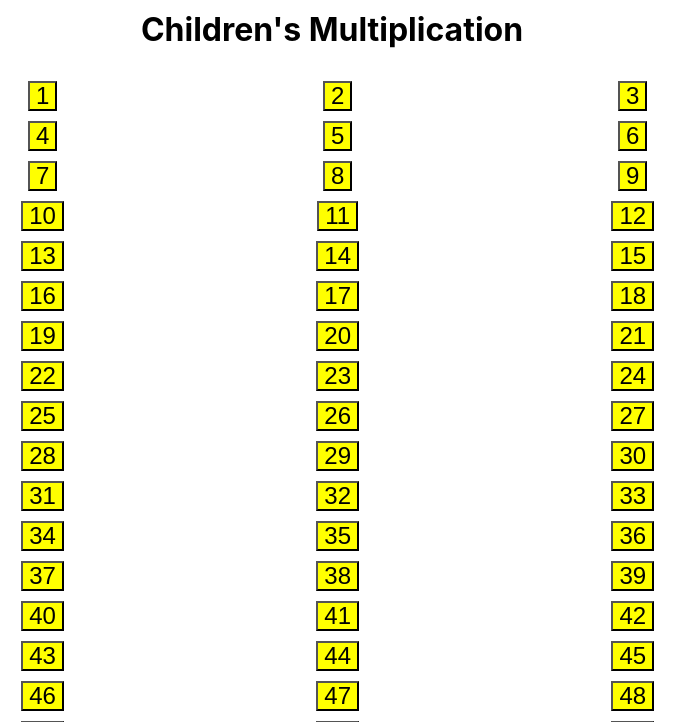
should highlight the correct multiples of 2 when clicked
What coordinates should you click on to do the following:
click the button "2"
I would click on:
 (338, 96)
Its box is [323,81,352,111].
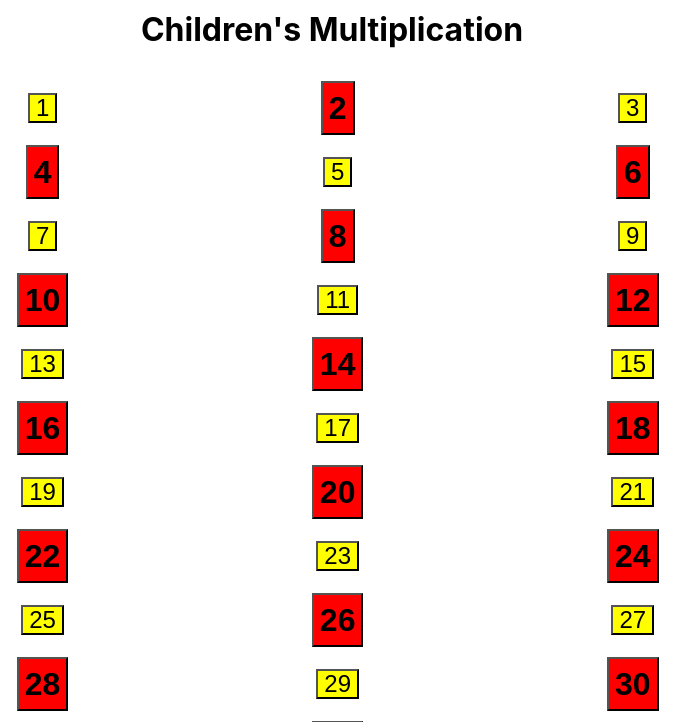
Now the number of buttons with test id "unSelectedNumbers" is 72
Now the number of buttons with test id "highlightedNumbers" is 72
